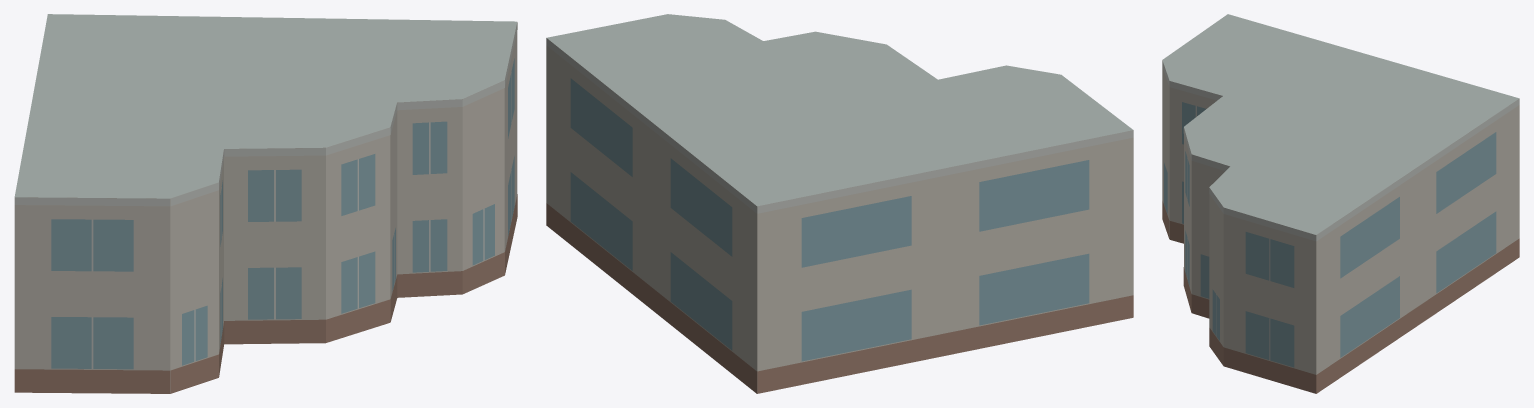
The model's file is survey-upis-32790981.glb.
3 views of the same model, side by side, from view 1: azimuth 30°, elevation 25°; view 2: azimuth 150°, elevation 25°; view 3: azimuth 270°, elevation 25° (orthographic). The views are drawn at different scales.
Parts seen in each view (by area): view 1: survey-upis-32790981.tmp; view 2: survey-upis-32790981.tmp; view 3: survey-upis-32790981.tmp.
Boxes of the visible parts, bbox=[...] form: survey-upis-32790981.tmp: bbox=[14, 14, 517, 393]; survey-upis-32790981.tmp: bbox=[546, 14, 1133, 393]; survey-upis-32790981.tmp: bbox=[1162, 14, 1519, 393].
Size of the model in its own units: 18.22 by 6.1 by 12.45.
